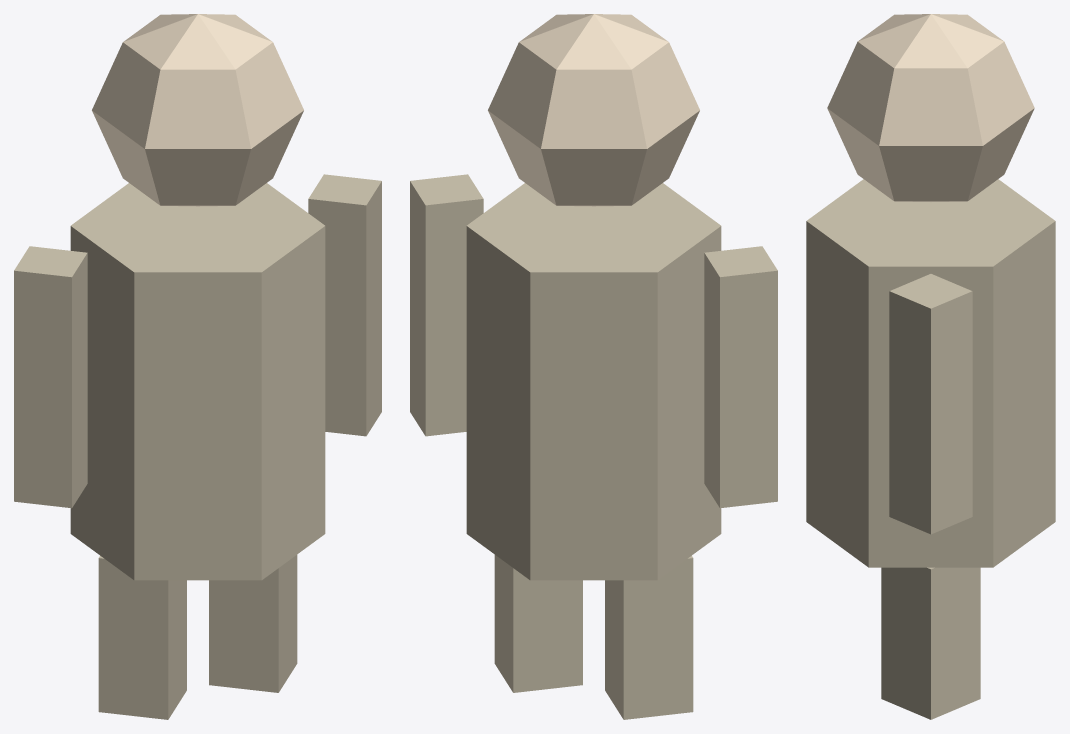
The model's file is shepherd.glb.
The picture shows the model from 3 angles, left to right: view 1: azimuth 30°, elevation 25°; view 2: azimuth 150°, elevation 25°; view 3: azimuth 270°, elevation 25°; orthographic projection. The views are drawn at different scales.
Parts seen in each view (by area): view 1: shepherd_torso, shepherd_head, shepherd_arm_l, shepherd_arm_r, shepherd_leg_l, shepherd_leg_r; view 2: shepherd_torso, shepherd_head, shepherd_arm_l, shepherd_arm_r, shepherd_leg_l, shepherd_leg_r; view 3: shepherd_torso, shepherd_head, shepherd_arm_r, shepherd_leg_r.
Part boxes in pixels (x1=…): shepherd_torso: x1=70, y1=183, x2=325, y2=580; shepherd_head: x1=92, y1=14, x2=303, y2=206; shepherd_arm_l: x1=14, y1=246, x2=87, y2=508; shepherd_arm_r: x1=308, y1=174, x2=381, y2=436; shepherd_leg_l: x1=98, y1=555, x2=186, y2=719; shepherd_leg_r: x1=209, y1=555, x2=297, y2=692; shepherd_torso: x1=466, y1=183, x2=721, y2=580; shepherd_head: x1=488, y1=14, x2=699, y2=206; shepherd_arm_l: x1=704, y1=246, x2=777, y2=508; shepherd_arm_r: x1=410, y1=174, x2=483, y2=436; shepherd_leg_l: x1=605, y1=555, x2=693, y2=719; shepherd_leg_r: x1=494, y1=555, x2=582, y2=692; shepherd_torso: x1=806, y1=179, x2=1055, y2=567; shepherd_head: x1=827, y1=14, x2=1034, y2=201; shepherd_arm_r: x1=889, y1=274, x2=972, y2=534; shepherd_leg_r: x1=881, y1=567, x2=980, y2=719.
Bounding box in the file's own units: 0.375 × 0.6562 × 0.225.
